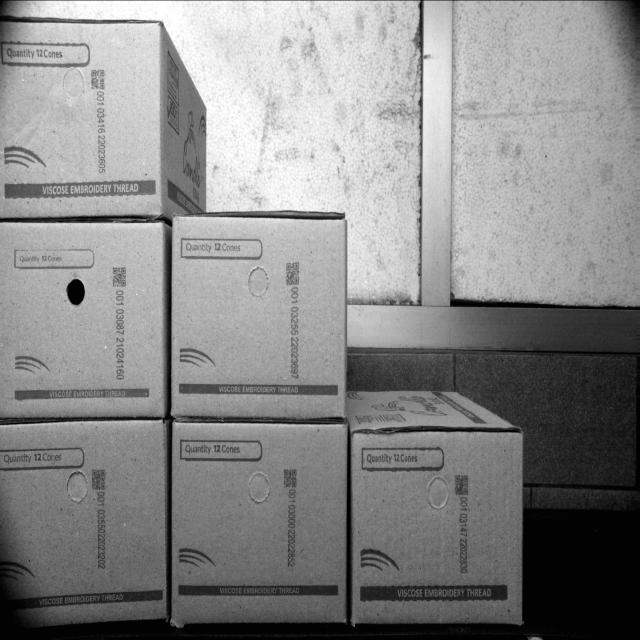cardboxes: (170, 423, 348, 618), (170, 220, 346, 417), (0, 420, 167, 625), (0, 21, 168, 218), (355, 429, 520, 621), (0, 223, 164, 415)
